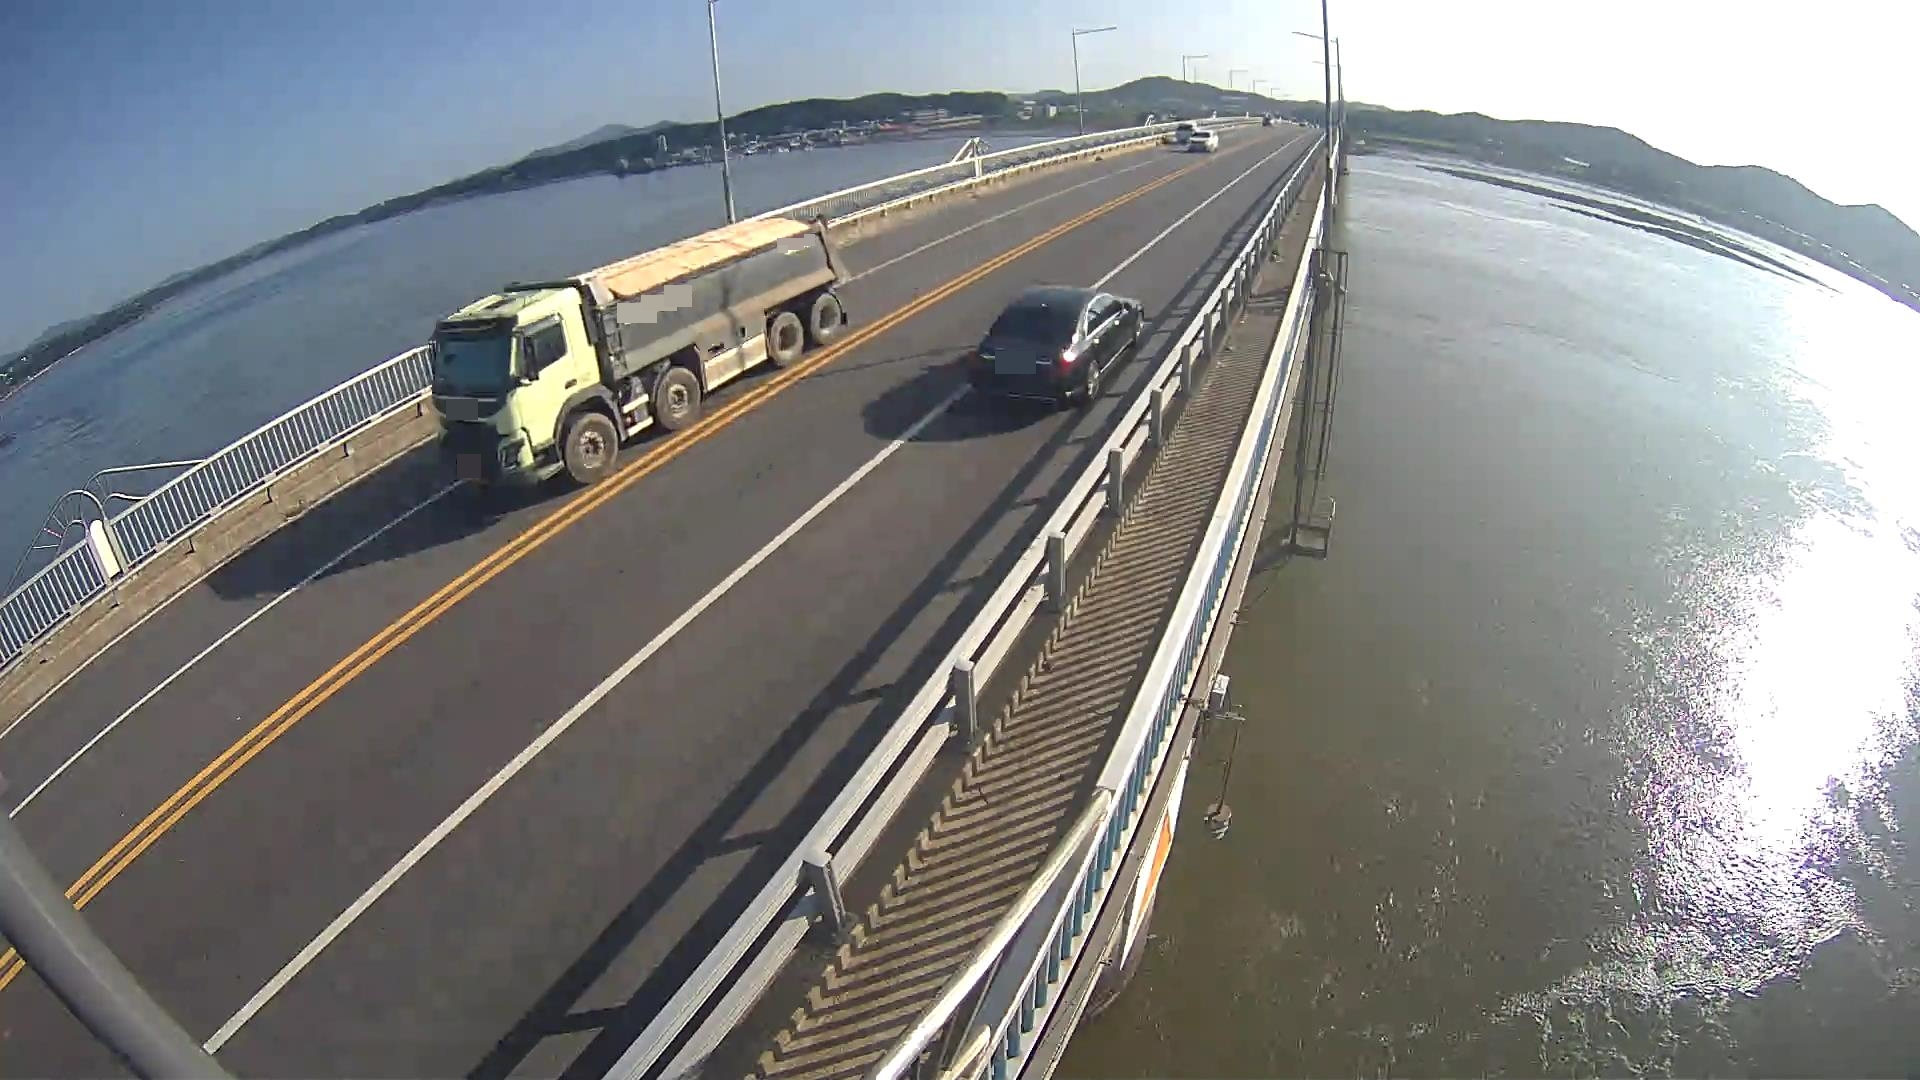정상차량: (427, 212, 849, 487)
